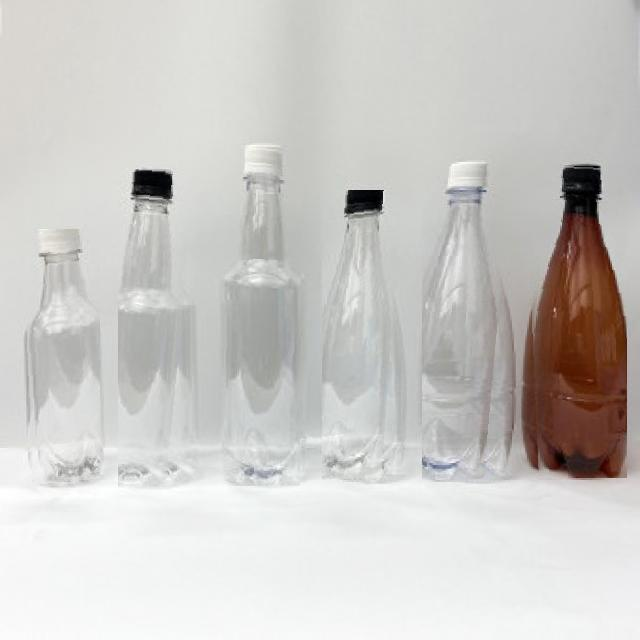plastic bottle: (525, 164, 627, 478), (422, 160, 512, 482), (218, 145, 302, 486), (118, 165, 196, 488), (322, 190, 403, 484), (22, 230, 100, 486)
